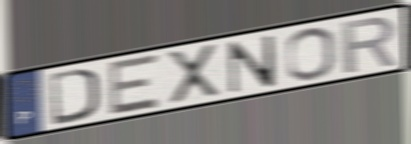D: (47, 65, 102, 127)
E: (107, 52, 162, 118)
N: (226, 33, 277, 96)
O: (284, 25, 339, 82)
R: (339, 14, 398, 76)
X: (164, 41, 223, 107)
